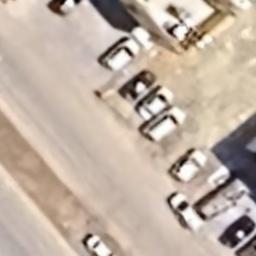SUV: (166, 192, 206, 232), (97, 36, 140, 73), (170, 147, 206, 181)
sedan: (218, 214, 256, 248), (118, 67, 156, 100), (138, 87, 176, 119), (87, 235, 115, 256)
van: (144, 106, 184, 142)
